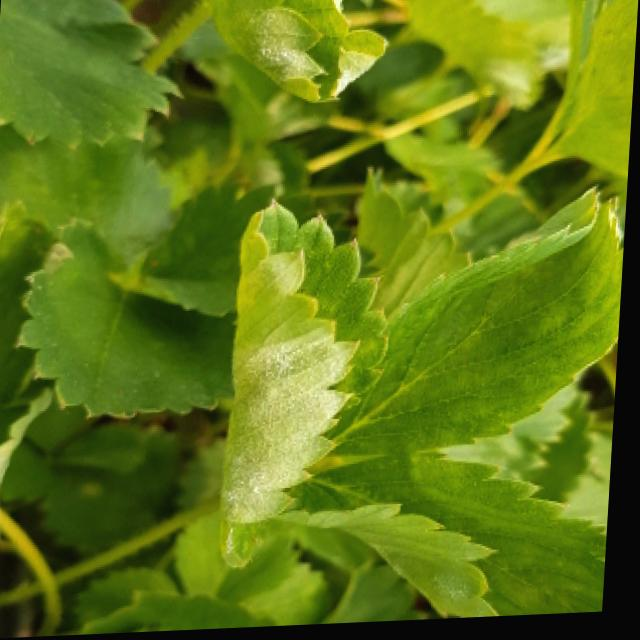Powdery Mildew Leaf: (225, 203, 393, 574), (271, 454, 614, 623), (206, 0, 390, 107), (0, 384, 61, 550)
